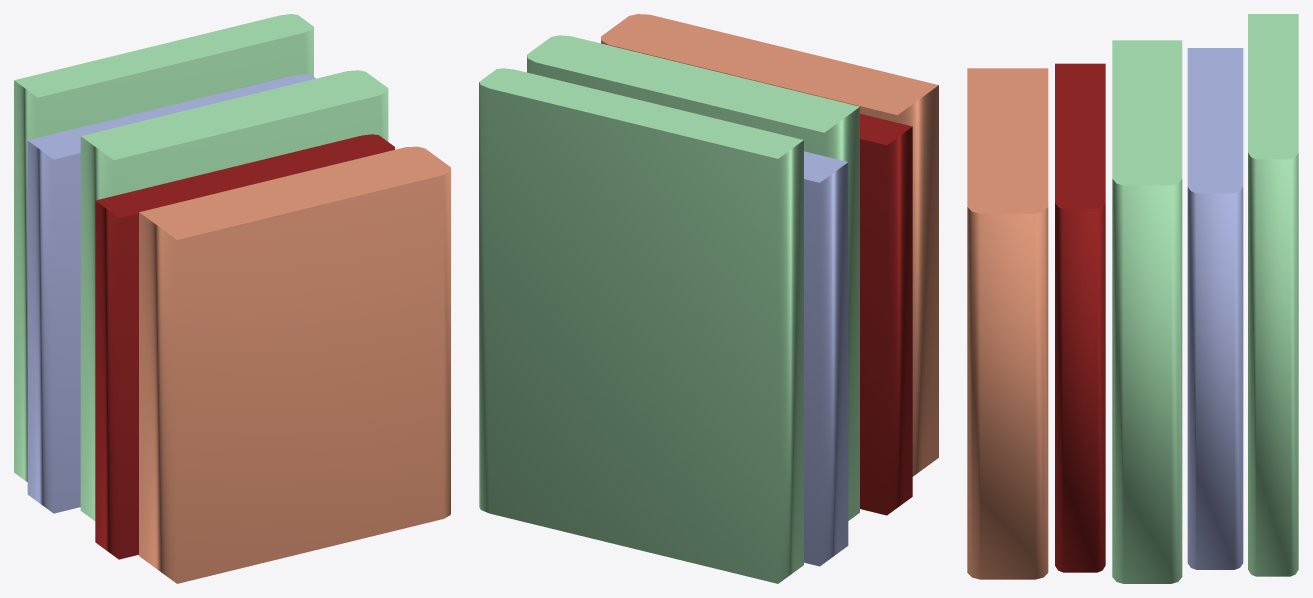
File: books.006.gltf
3 views of the same model, side by side, from view 1: azimuth 30°, elevation 25°; view 2: azimuth 150°, elevation 25°; view 3: azimuth 270°, elevation 25° (orthographic). The views are drawn at different scales.
Parts seen in each view (by area): view 1: books.006; view 2: books.006; view 3: books.006.
Part boxes in pixels (x1,y1,x2,y2): books.006: (14,14,450,583); books.006: (479,14,938,583); books.006: (967,14,1298,583).
Size of the model in its own units: 1.03 by 1.28 by 0.9164.
